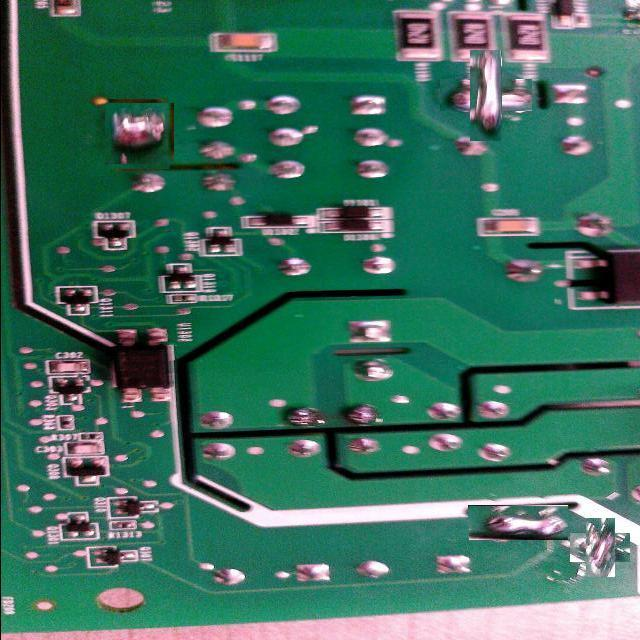Short_circuit: (107, 101, 172, 167), (456, 65, 518, 126), (468, 505, 568, 540), (578, 525, 623, 570)
